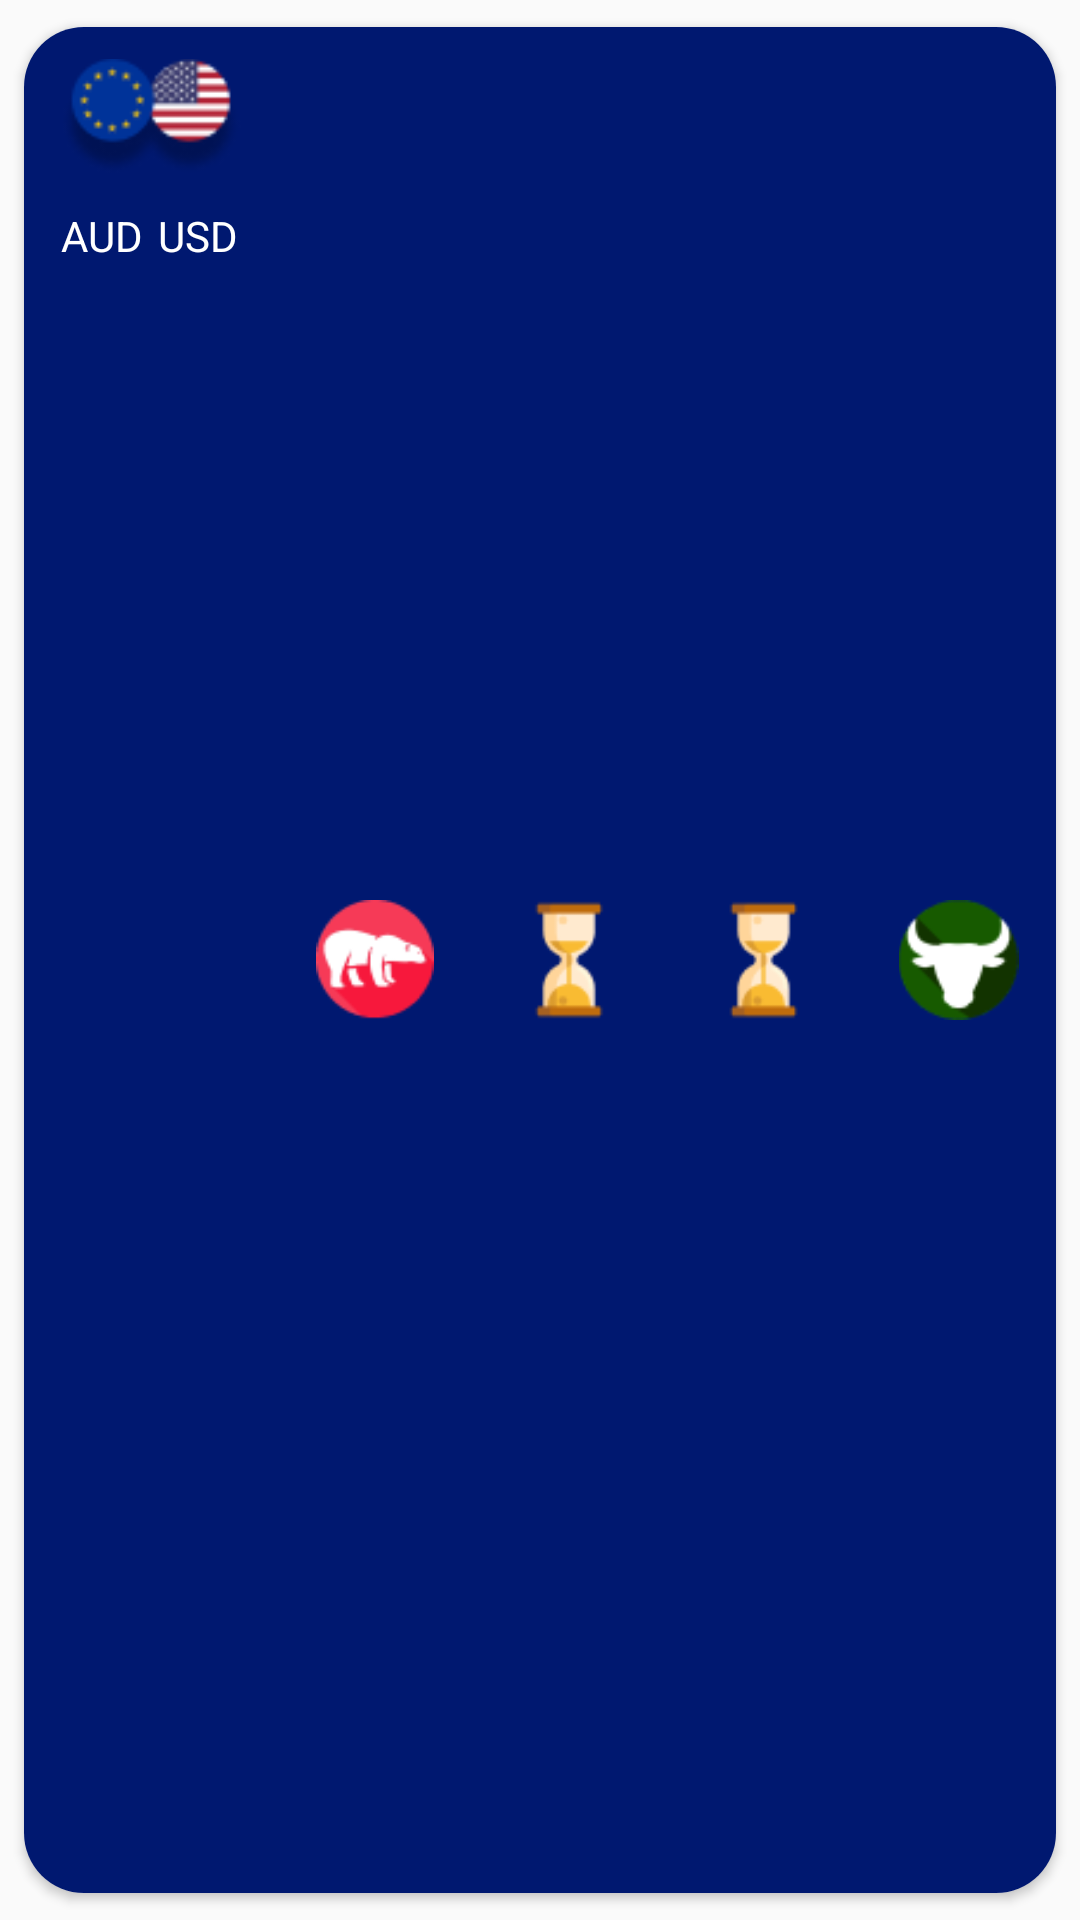

Point at icon controls on the screen. Image size 1080px×1920px, points as point (x, y).
bear: point (375, 959)
bull: point (959, 960)
flag: point (151, 108)
timer: point (569, 960), point (763, 960)
